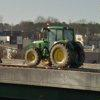Tractor: (20, 19, 89, 75)
